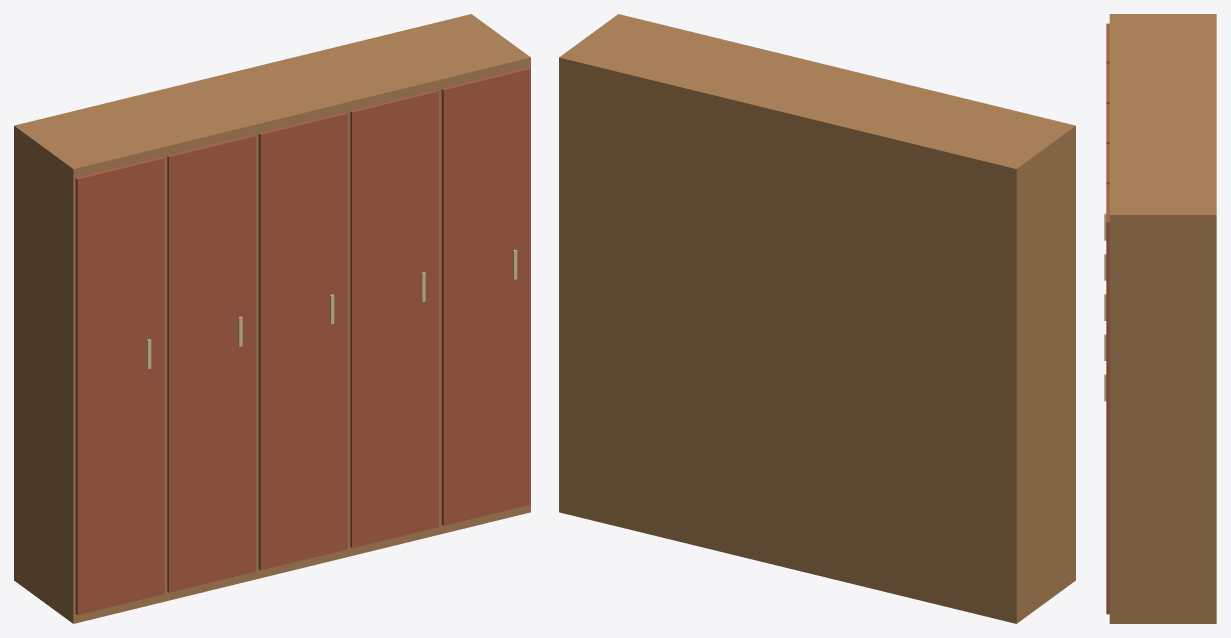
The model's file is armario_vestiario_200.obj.
3 renders of one model, left to right at view 1: azimuth 30°, elevation 25°; view 2: azimuth 150°, elevation 25°; view 3: azimuth 270°, elevation 25°, orthographic. The views are drawn at different scales.
Visible parts, largest first — view 1: armario_vestiario_200; view 2: armario_vestiario_200; view 3: armario_vestiario_200.
Boxes of the visible parts, left/top/right/bottom form: armario_vestiario_200: left=14, top=14, right=530, bottom=623; armario_vestiario_200: left=559, top=14, right=1075, bottom=623; armario_vestiario_200: left=1104, top=14, right=1216, bottom=623.
Size of the model in its own units: 200 by 190 by 47.2.
